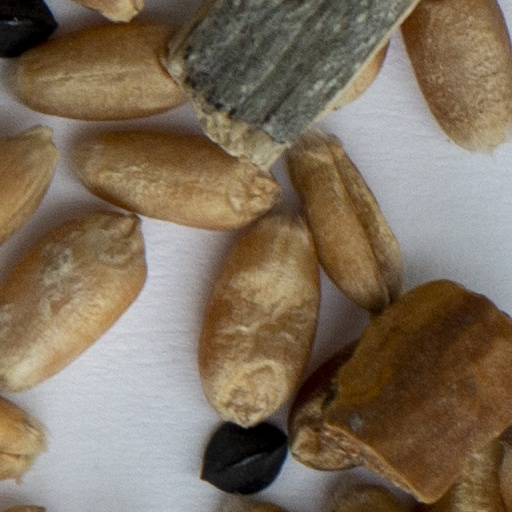Fallopia-Сonvolvulus-poly: (201, 422, 287, 492), (0, 0, 55, 56)
Peel-poly: (289, 281, 511, 492), (174, 0, 412, 157)
